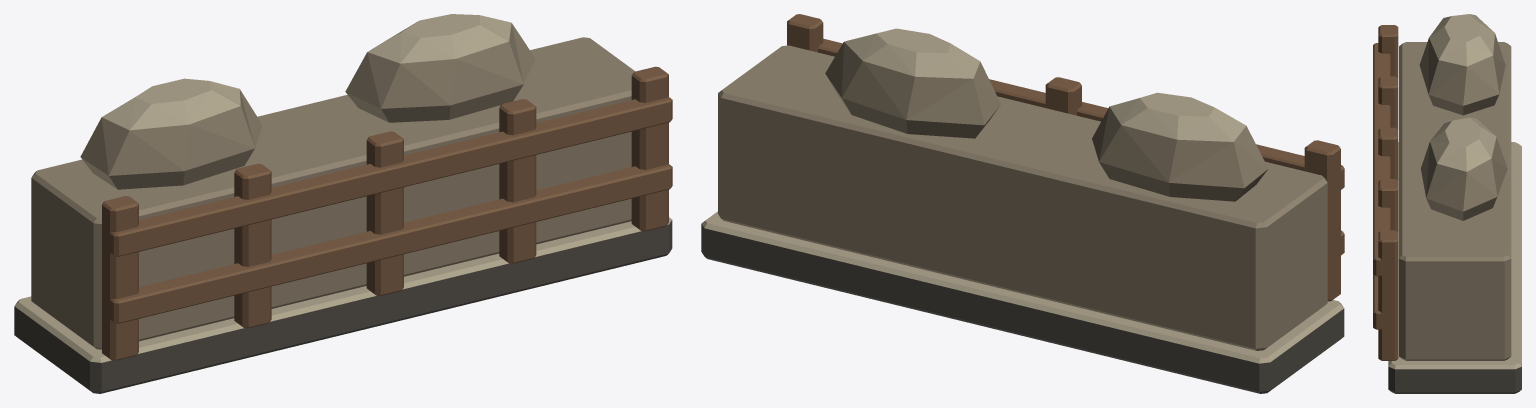
Rendered from wall-broken.glb.
The picture shows the model from 3 angles, left to right: view 1: azimuth 30°, elevation 25°; view 2: azimuth 150°, elevation 25°; view 3: azimuth 270°, elevation 25°; orthographic projection. The views are drawn at different scales.
Parts seen in each view (by area): view 1: wall-broken__body; view 2: wall-broken__body; view 3: wall-broken__body.
Part boxes in pixels (x1,y1,x2,y2): wall-broken__body: [14, 14, 672, 393]; wall-broken__body: [701, 14, 1344, 393]; wall-broken__body: [1373, 14, 1521, 393].
Size of the model in its own units: 2 by 0.79 by 0.5575.
